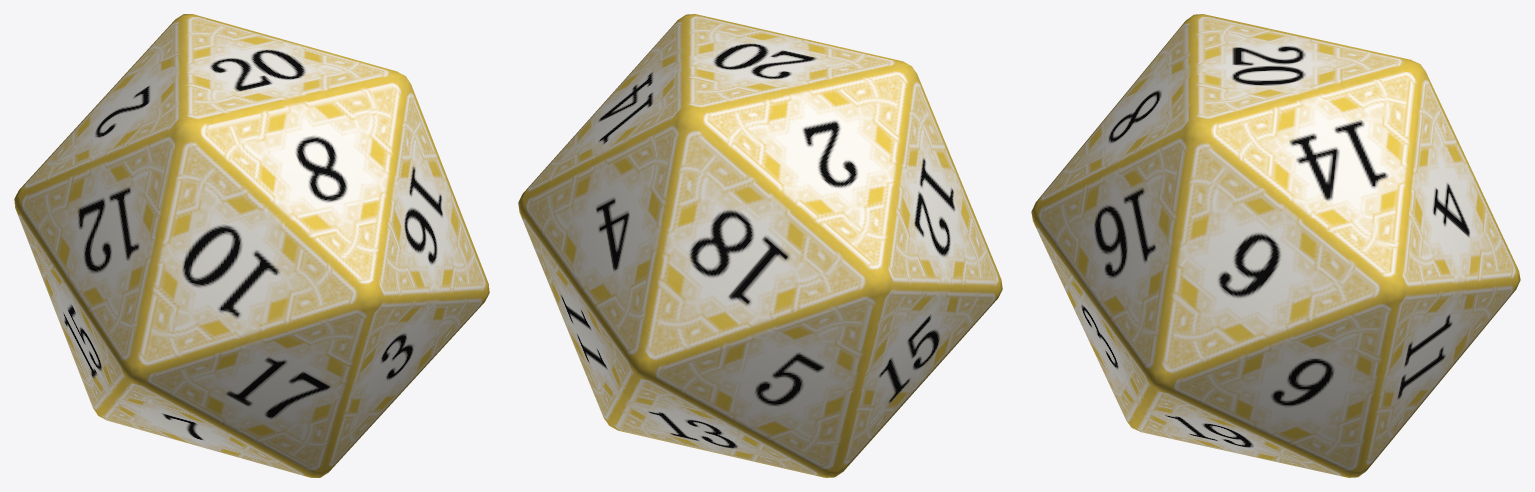
The model's file is dice1_512.glb.
3 views of the same model, side by side, from view 1: azimuth 30°, elevation 25°; view 2: azimuth 150°, elevation 25°; view 3: azimuth 270°, elevation 25° (orthographic).
Parts seen in each view (by area): view 1: GeoSphere003BBig_Export; view 2: GeoSphere003BBig_Export; view 3: GeoSphere003BBig_Export.
Part boxes in pixels (bbox=[...]): GeoSphere003BBig_Export: bbox=[14, 14, 489, 477]; GeoSphere003BBig_Export: bbox=[518, 14, 1002, 477]; GeoSphere003BBig_Export: bbox=[1031, 14, 1520, 477].
Size of the model in its own units: 0.5647 by 0.5422 by 0.6465.
1 material, 1 textured.
